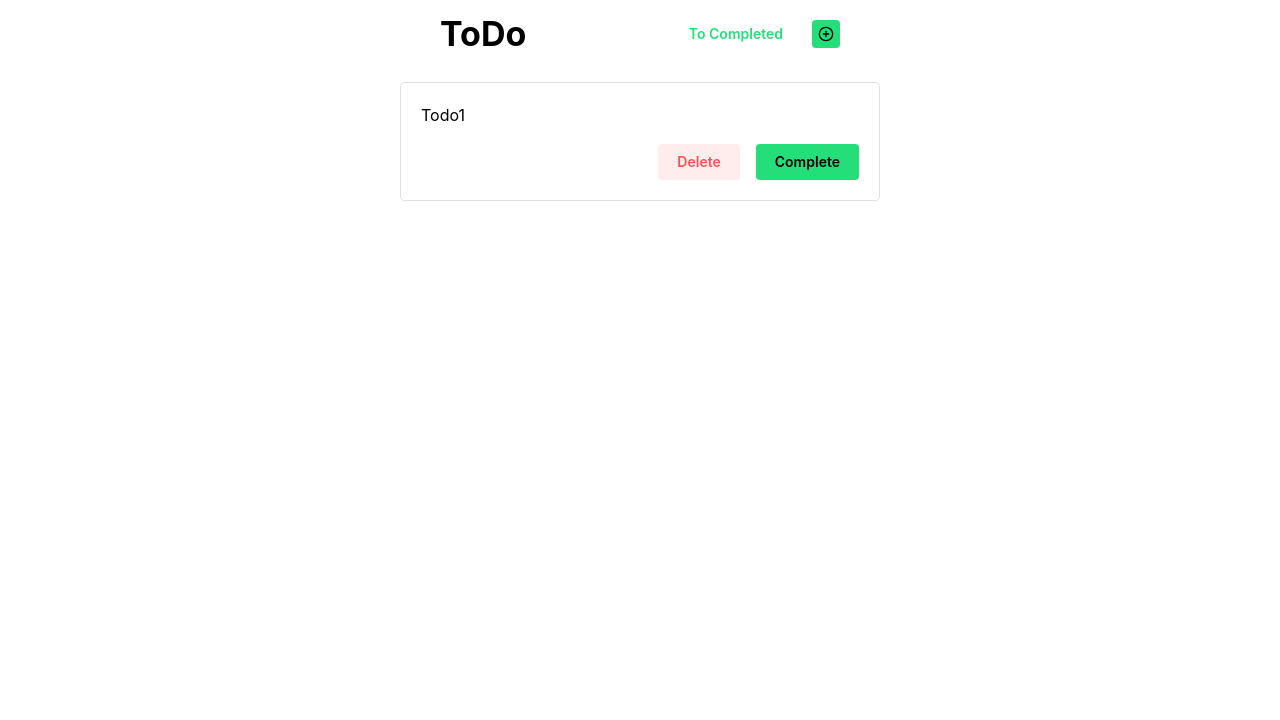
Test case: Pending Window › Adding items does show in UI
Click the button with test id "add-item": (826, 34) [812,20,840,48]
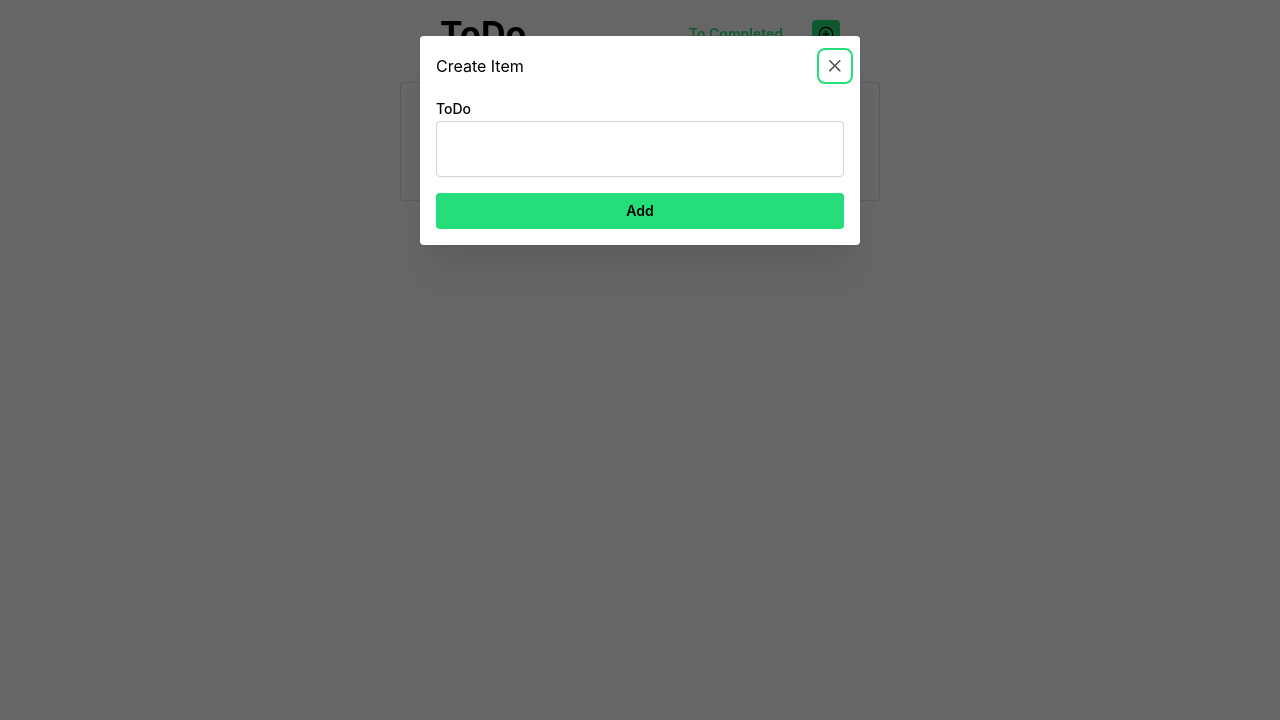
In the text box labelled "ToDo": (640, 149) [436,121,844,177], type "TestInput"
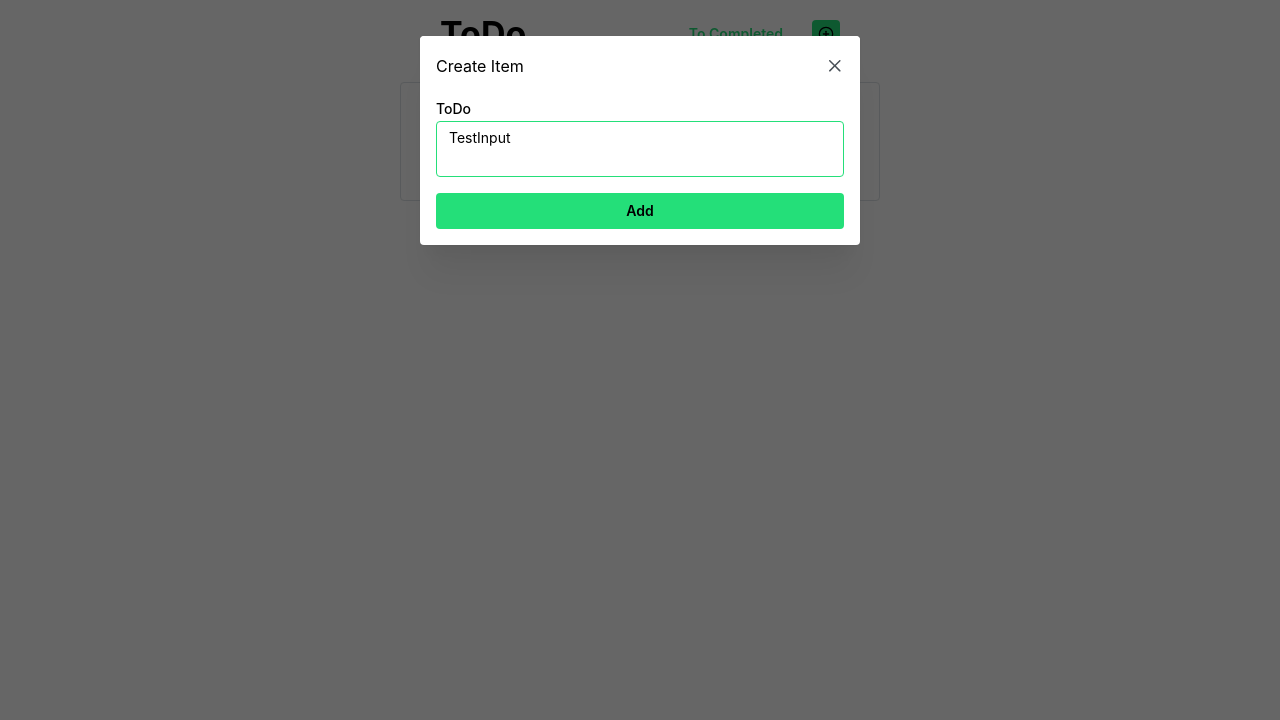
Click the button "Add": (640, 211) [436,193,844,229]
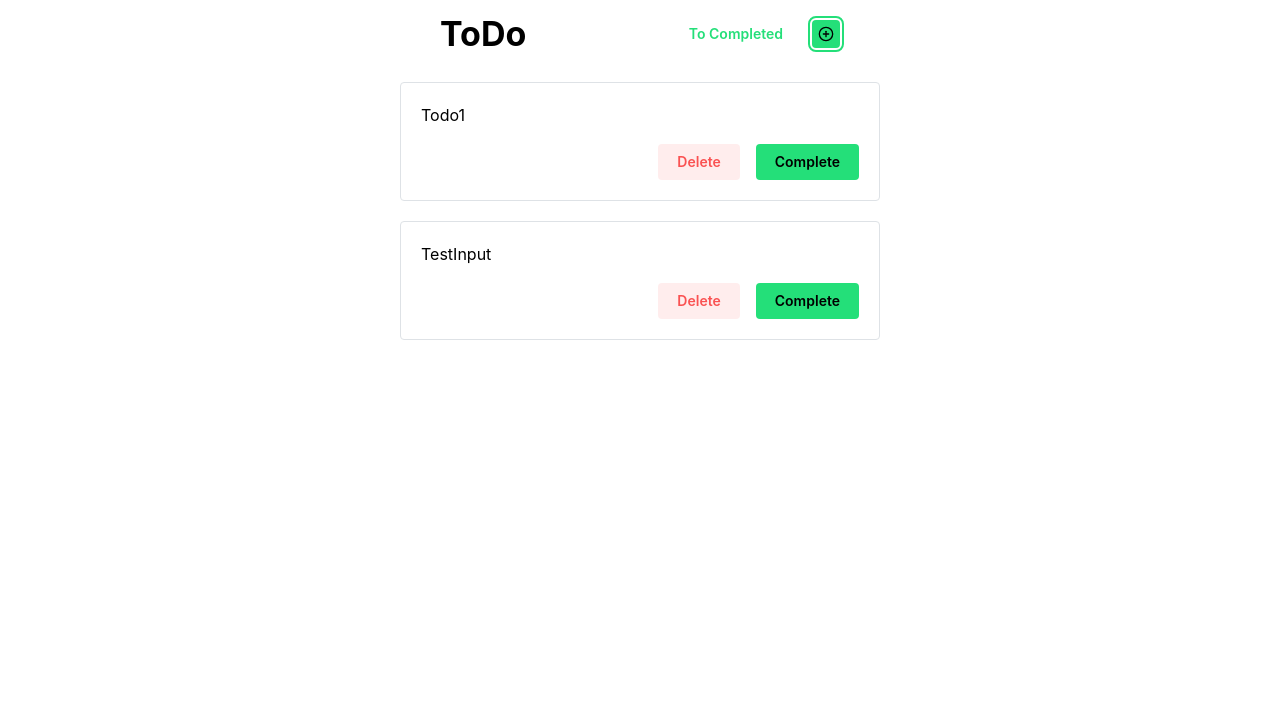
Now the text "TestInput" is shown, box [421,244,491,264]
